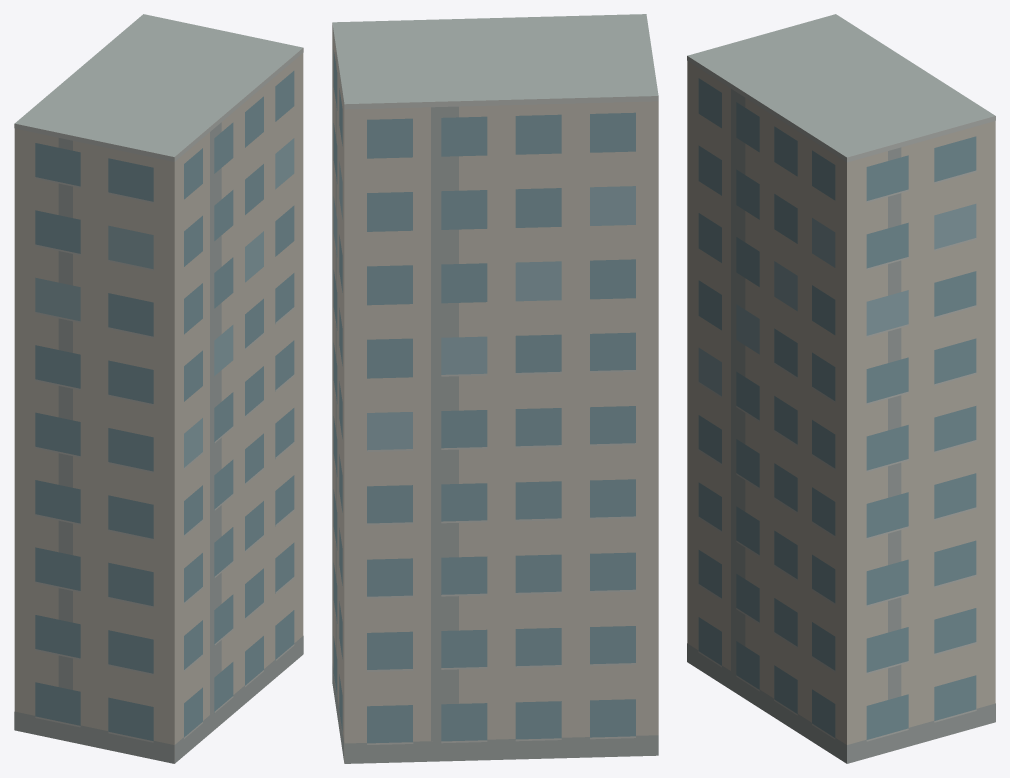
The model's file is residential-f287ea3a-e871-4ea2-8fd1-3bc35352abeb.glb.
3 views of the same model, side by side, from view 1: azimuth 30°, elevation 25°; view 2: azimuth 150°, elevation 25°; view 3: azimuth 270°, elevation 25° (orthographic). The views are drawn at different scales.
Visible parts, largest first — view 1: residential-f287ea3a-e871-4ea2-8fd1-3bc35352abeb.tmp; view 2: residential-f287ea3a-e871-4ea2-8fd1-3bc35352abeb.tmp; view 3: residential-f287ea3a-e871-4ea2-8fd1-3bc35352abeb.tmp.
Part boxes in pixels (x1,y1,x2,y2): residential-f287ea3a-e871-4ea2-8fd1-3bc35352abeb.tmp: [14, 14, 303, 763]; residential-f287ea3a-e871-4ea2-8fd1-3bc35352abeb.tmp: [332, 14, 658, 763]; residential-f287ea3a-e871-4ea2-8fd1-3bc35352abeb.tmp: [687, 14, 995, 763].
Bounding box in the file's own units: 15.25 × 30 × 13.85.
